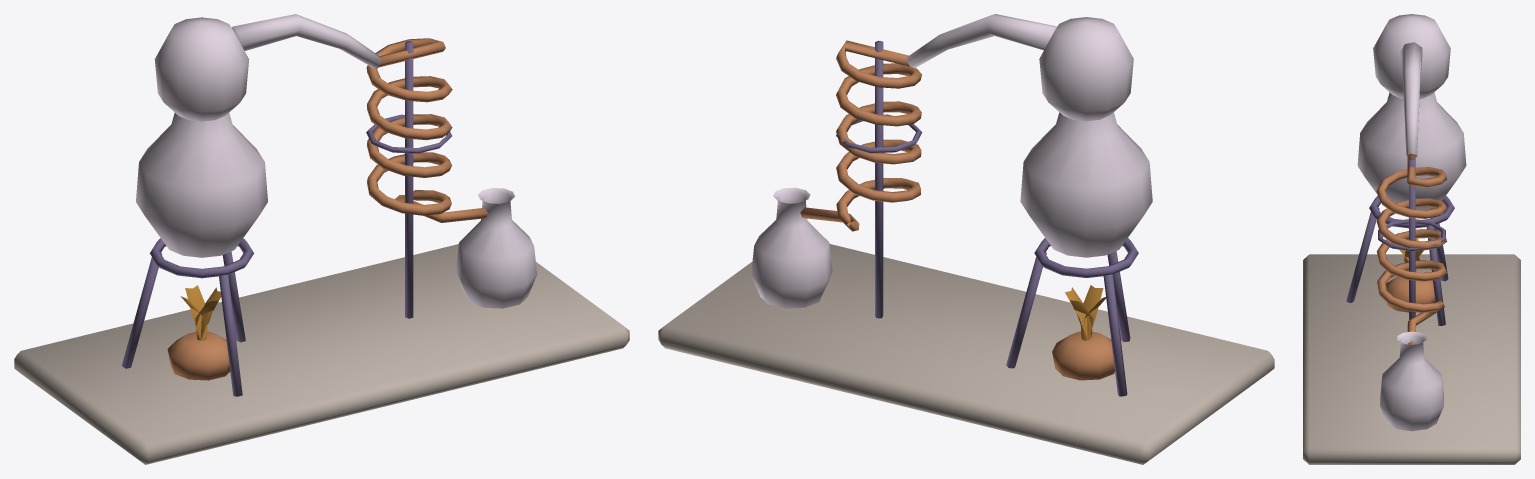
File: potion_alembic.glb
The picture shows the model from 3 angles, left to right: view 1: azimuth 30°, elevation 25°; view 2: azimuth 150°, elevation 25°; view 3: azimuth 270°, elevation 25°; orthographic projection. The views are drawn at different scales.
Parts seen in each view (by area): view 1: potion_alembic; view 2: potion_alembic; view 3: potion_alembic.
Boxes of the visible parts, box(x1,y1,x2,y2) form: potion_alembic: box(14, 14, 629, 464); potion_alembic: box(658, 14, 1274, 464); potion_alembic: box(1303, 14, 1520, 464).
Size of what is drawn, in the model's own units: 0.9 by 0.645 by 0.42.
